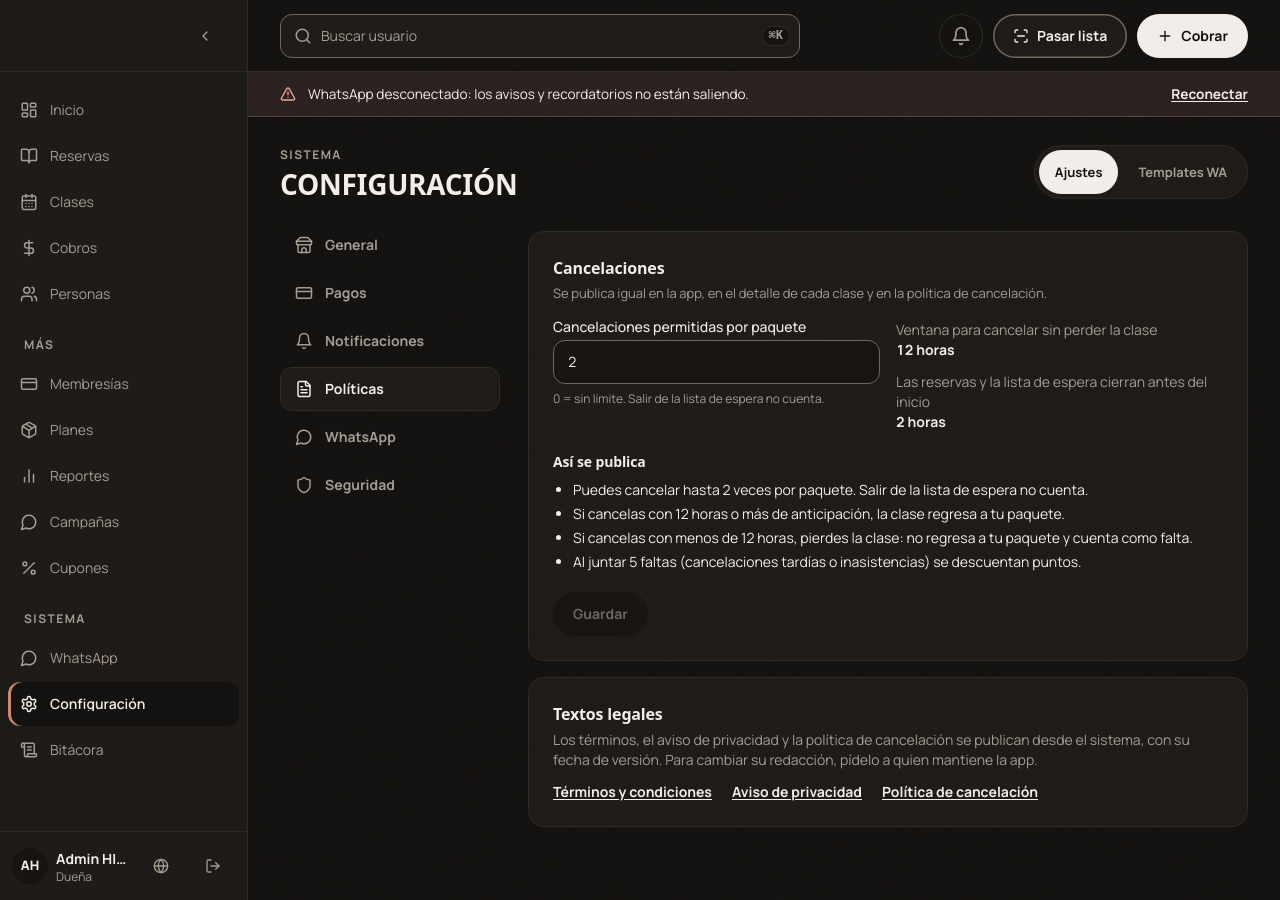
Scenario: Configuración · Políticas (auditoría 2026-09-27, P0-4) › 0 es sin límite y un valor inválido no se puede guardar
Step 1. Replace the text in the number field labelled "Cancelaciones permitidas por paquete" with "0" → (716, 362), box x1=553 y1=340 x2=880 y2=384
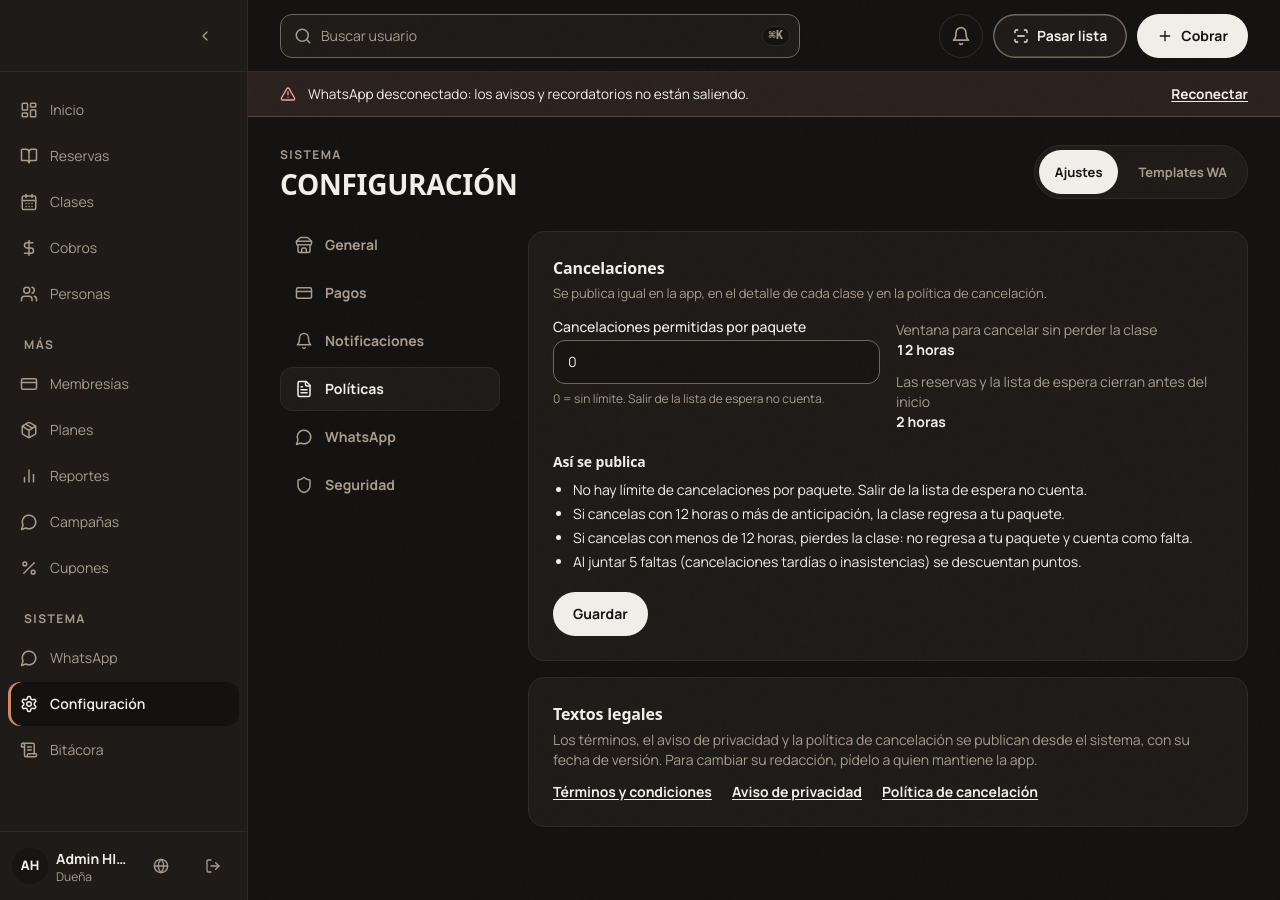
Result: the list item "No hay límite de cancelaciones por paquete. Salir de la lista de espera no cuenta." is shown at x1=573 y1=480 x2=1087 y2=499
Step 2. Replace the text in the number field labelled "Cancelaciones permitidas por paquete" with "25" → (716, 362), box x1=553 y1=340 x2=880 y2=384
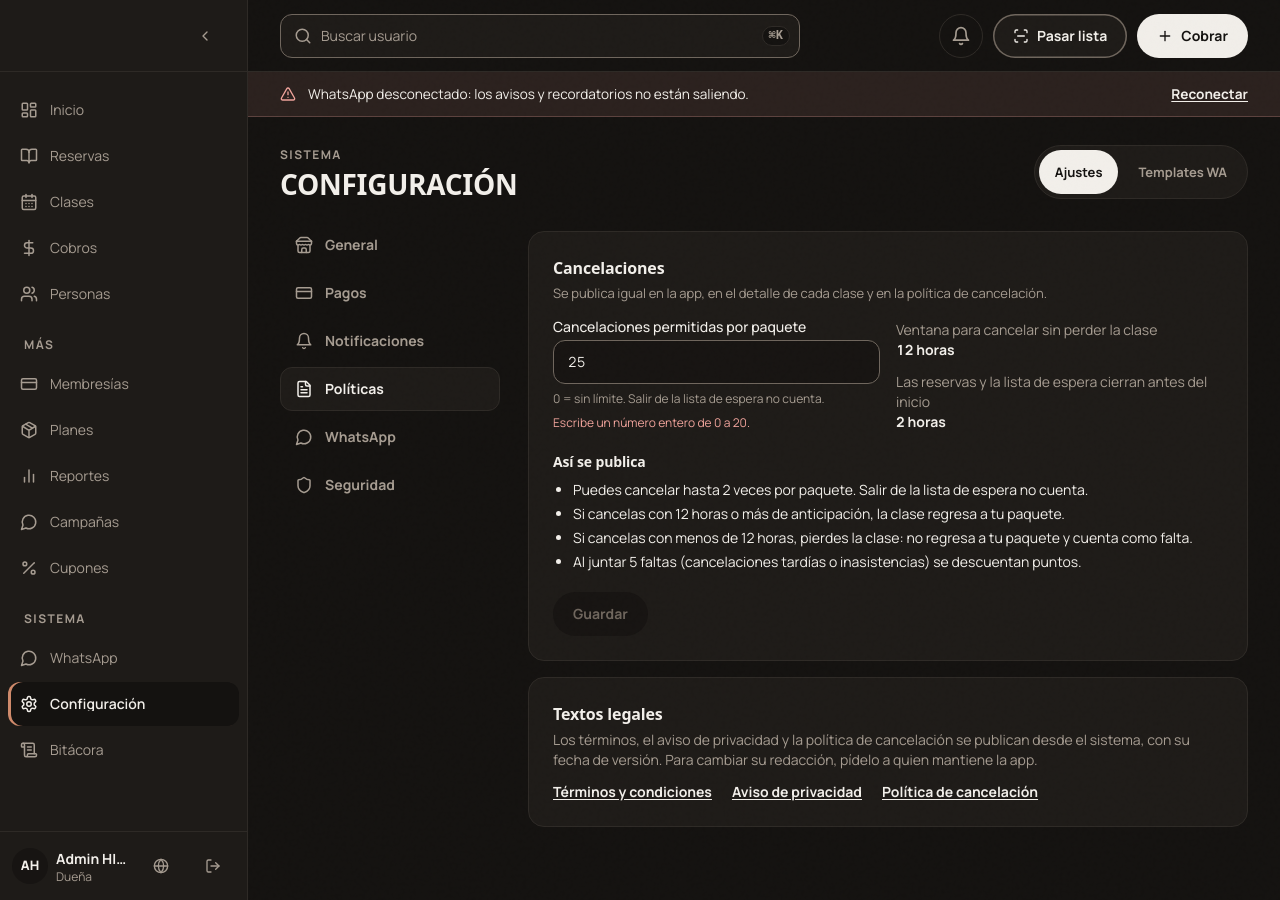
Result: the text "Escribe un número entero de 0 a 20." is shown at x1=553 y1=414 x2=750 y2=431
Result: the button "Guardar" is disabled at x1=553 y1=592 x2=648 y2=636
